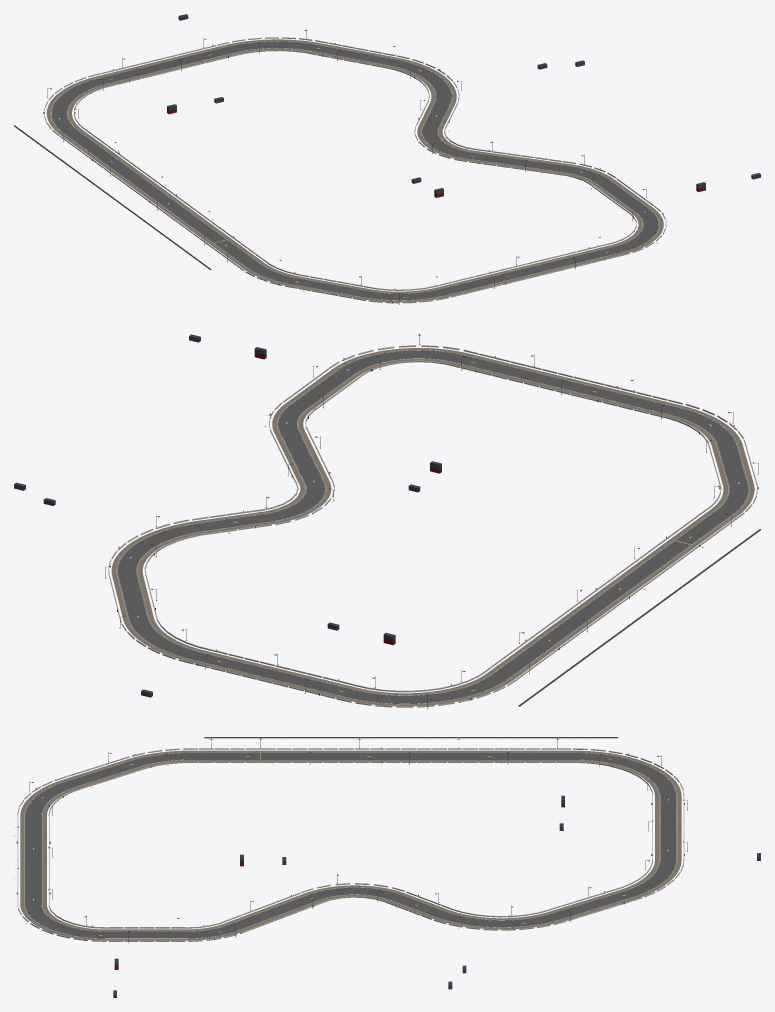
File: foundation.glb
3 views of the same model, one above another, from view 1: azimuth 30°, elevation 25°; view 2: azimuth 150°, elevation 25°; view 3: azimuth 270°, elevation 25° (orthographic). The views are drawn at different scales.
Visible parts, largest first — view 1: foundation_Quality_Dry_Asphalt_('global',), foundation_Quality_Mineral_Stucco_('global',), foundation_Quality_Cast_Concrete_('global',), foundation_Harbor_Modular_Atlas_('global',), foundation_Harbor_Road_Paint_('global',); view 2: foundation_Quality_Dry_Asphalt_('global',), foundation_Quality_Cast_Concrete_('global',), foundation_Quality_Mineral_Stucco_('global',), foundation_Harbor_Road_Paint_('global',), foundation_Harbor_Modular_Atlas_('global',); view 3: foundation_Quality_Dry_Asphalt_('global',), foundation_Quality_Cast_Concrete_('global',), foundation_Quality_Mineral_Stucco_('global',), foundation_Harbor_Road_Paint_('global',).
Part boxes in pixels (x1,y1,x2,y2): foundation_Quality_Dry_Asphalt_('global',): (51, 41, 659, 300); foundation_Quality_Mineral_Stucco_('global',): (44, 37, 666, 303); foundation_Quality_Cast_Concrete_('global',): (46, 39, 663, 302); foundation_Harbor_Modular_Atlas_('global',): (167, 14, 760, 197); foundation_Harbor_Road_Paint_('global',): (51, 41, 658, 300); foundation_Quality_Dry_Asphalt_('global',): (117, 350, 748, 703); foundation_Quality_Cast_Concrete_('global',): (111, 348, 754, 706); foundation_Quality_Mineral_Stucco_('global',): (108, 345, 757, 707); foundation_Harbor_Road_Paint_('global',): (117, 350, 748, 703); foundation_Harbor_Modular_Atlas_('global',): (14, 334, 441, 697); foundation_Quality_Dry_Asphalt_('global',): (25, 752, 676, 938); foundation_Quality_Cast_Concrete_('global',): (20, 750, 681, 940); foundation_Quality_Mineral_Stucco_('global',): (17, 748, 684, 941); foundation_Harbor_Road_Paint_('global',): (25, 753, 676, 938).
Bounding box in the file's own units: 393 × 7.52 × 477.
8 materials, 6 textured.
